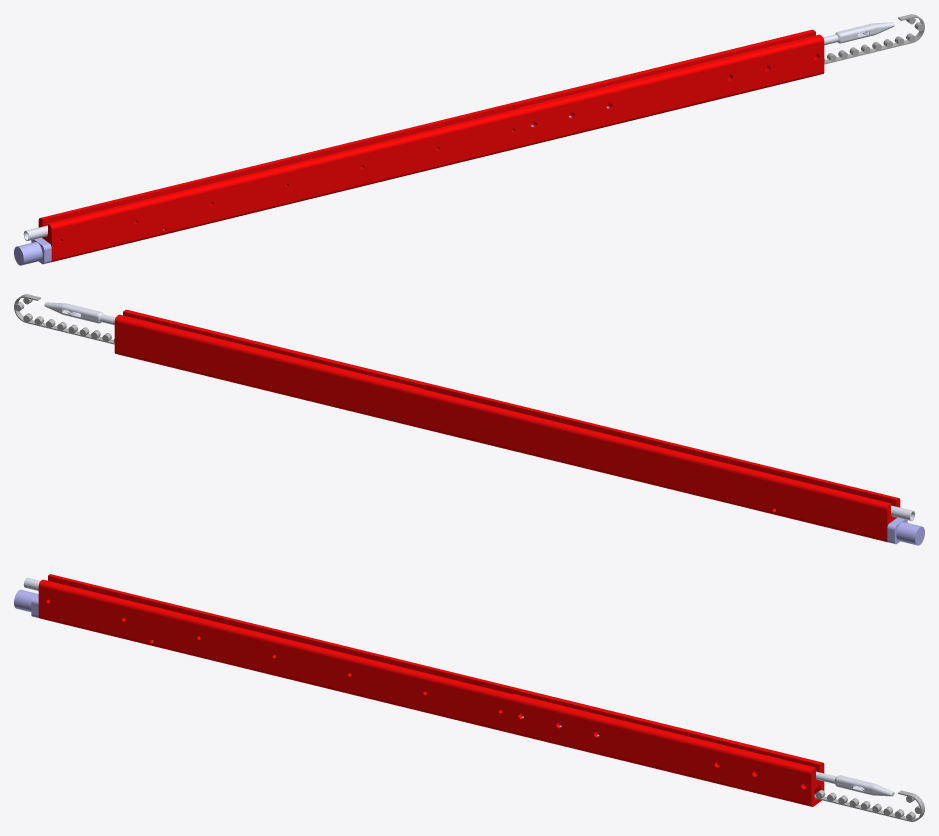
The model's file is microkiap v4 (hooking position) (HEAD ONLY, JAW CLOSED).fbx.
3 renders of one model, top to bottom at view 1: azimuth 30°, elevation 25°; view 2: azimuth 150°, elevation 25°; view 3: azimuth 330°, elevation 25°, orthographic.
Visible parts, largest first — view 1: imagetostl_mesh2, imagetostl_mesh1, imagetostl_mesh0, imagetostl_mesh4; view 2: imagetostl_mesh2, imagetostl_mesh1, imagetostl_mesh0, imagetostl_mesh4; view 3: imagetostl_mesh2, imagetostl_mesh1, imagetostl_mesh0, imagetostl_mesh4.
Part boxes in pixels (box(x1,y1,x2,y2)): imagetostl_mesh2: box(38, 29, 824, 262); imagetostl_mesh1: box(23, 22, 894, 240); imagetostl_mesh0: box(824, 14, 924, 64); imagetostl_mesh4: box(14, 106, 609, 265); imagetostl_mesh2: box(114, 309, 900, 542); imagetostl_mesh1: box(44, 302, 915, 520); imagetostl_mesh0: box(14, 294, 114, 344); imagetostl_mesh4: box(825, 517, 924, 545); imagetostl_mesh2: box(38, 574, 824, 806); imagetostl_mesh1: box(23, 577, 894, 796); imagetostl_mesh0: box(814, 790, 921, 821); imagetostl_mesh4: box(14, 589, 599, 736).
Size of the model in its own units: 24000 by 1050 by 600.
